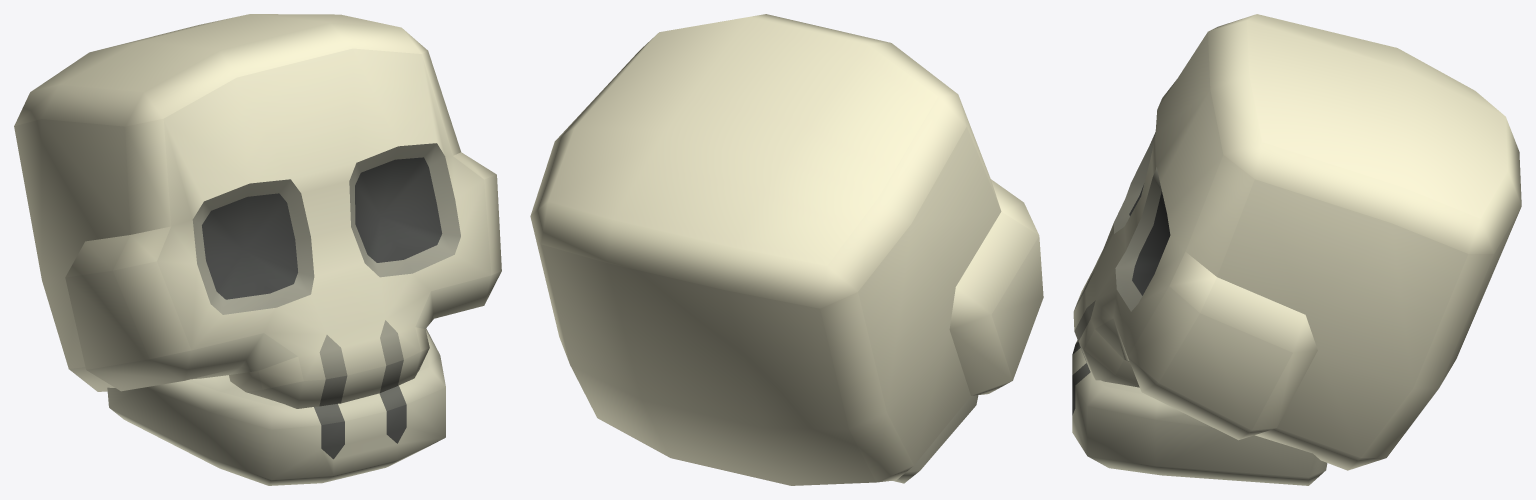
Rendered from skull.fbx.
3 views of the same model, side by side, from view 1: azimuth 30°, elevation 25°; view 2: azimuth 150°, elevation 25°; view 3: azimuth 270°, elevation 25° (orthographic). The views are drawn at different scales.
Visible parts, largest first — view 1: skull; view 2: skull; view 3: skull.
Boxes of the visible parts, x1,y1,x2,y2 form: skull: (14, 14, 501, 485); skull: (530, 14, 1043, 485); skull: (1072, 14, 1521, 485).
Size of the model in its own units: 53.53 by 50.41 by 53.56.
